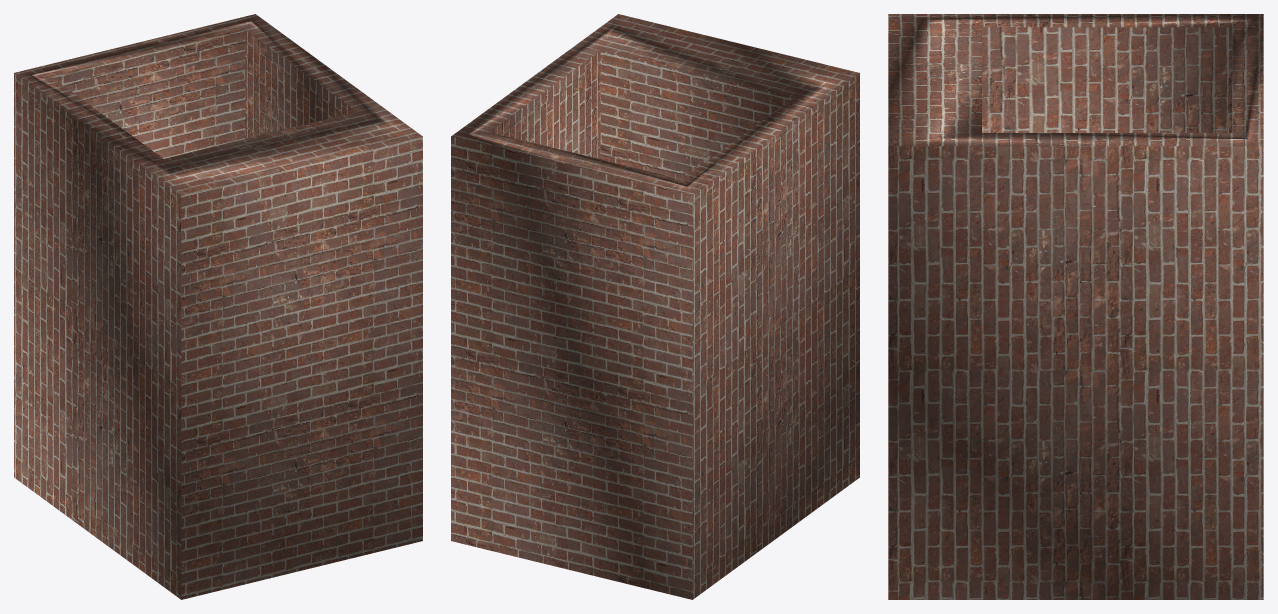
Rendered from house.DAE.
The picture shows the model from 3 angles, left to right: view 1: azimuth 30°, elevation 25°; view 2: azimuth 150°, elevation 25°; view 3: azimuth 270°, elevation 25°; orthographic projection. The views are drawn at different scales.
Visible parts, largest first — view 1: adventureplaygound01a; view 2: adventureplaygound01a; view 3: adventureplaygound01a.
Part boxes in pixels (x1,y1,x2,y2): adventureplaygound01a: (14,14,422,599); adventureplaygound01a: (451,14,859,599); adventureplaygound01a: (888,14,1263,599).
Size of the model in its own units: 98.43 by 157 by 118.
